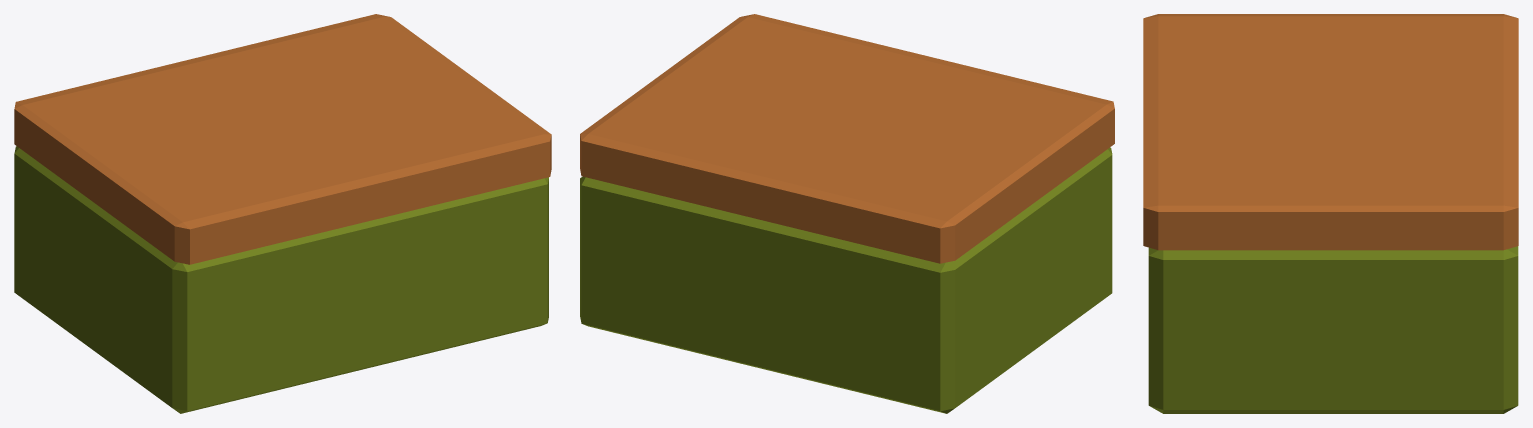
Rendered from lighttoplightbtm.fbx.
3 views of the same model, side by side, from view 1: azimuth 30°, elevation 25°; view 2: azimuth 150°, elevation 25°; view 3: azimuth 270°, elevation 25° (orthographic). The views are drawn at different scales.
Parts seen in each view (by area): view 1: pCube9; view 2: pCube9; view 3: pCube9.
Boxes of the visible parts, x1=… form: pCube9: x1=14, y1=14, x2=551, y2=413; pCube9: x1=580, y1=14, x2=1114, y2=413; pCube9: x1=1143, y1=14, x2=1518, y2=413.
Bounding box in the file's own units: 152 × 74.53 × 122.
